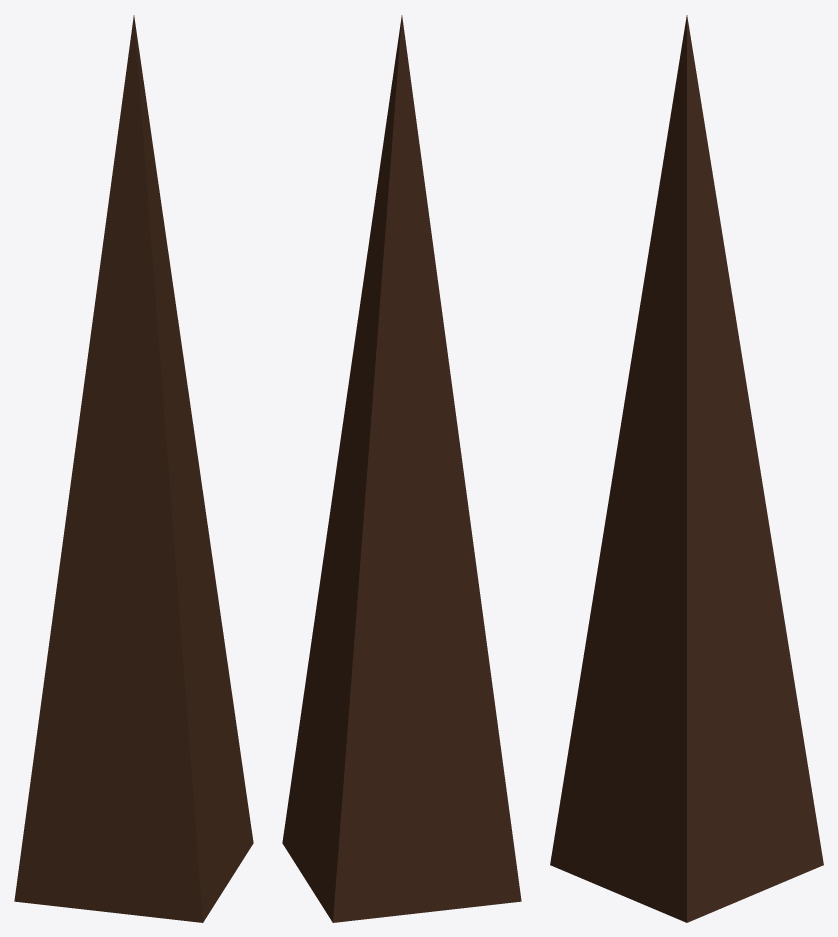
The model's file is spike.fbx.
3 views of the same model, side by side, from view 1: azimuth 30°, elevation 25°; view 2: azimuth 150°, elevation 25°; view 3: azimuth 270°, elevation 25° (orthographic).
Visible parts, largest first — view 1: Cone; view 2: Cone; view 3: Cone.
Part boxes in pixels (x1,y1,x2,y2): Cone: (14, 15, 253, 922); Cone: (282, 15, 521, 922); Cone: (550, 15, 823, 922).
Size of the model in its own units: 200 by 686 by 200.
